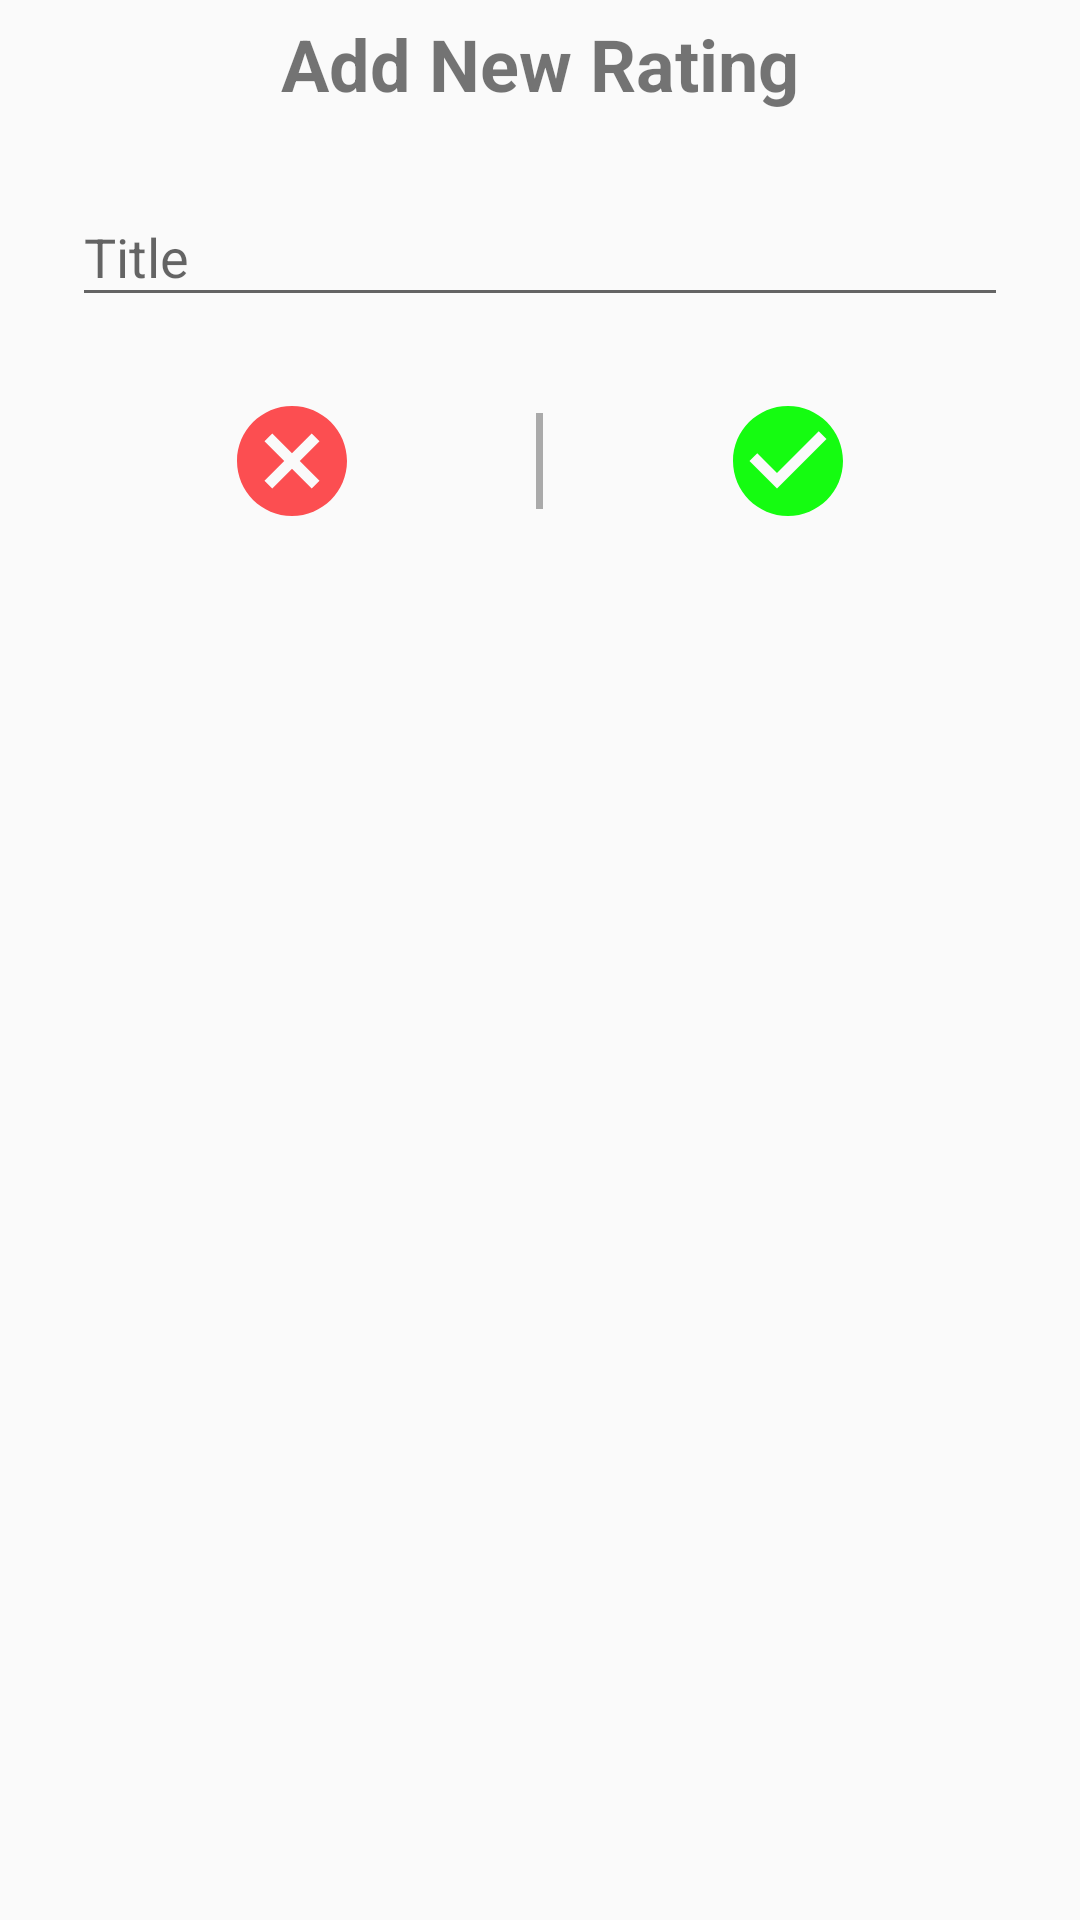

Where to tap for icons on this 1080×1920 app screen, as point (x, y):
cancel: point (292, 461)
check circle: point (788, 461)
